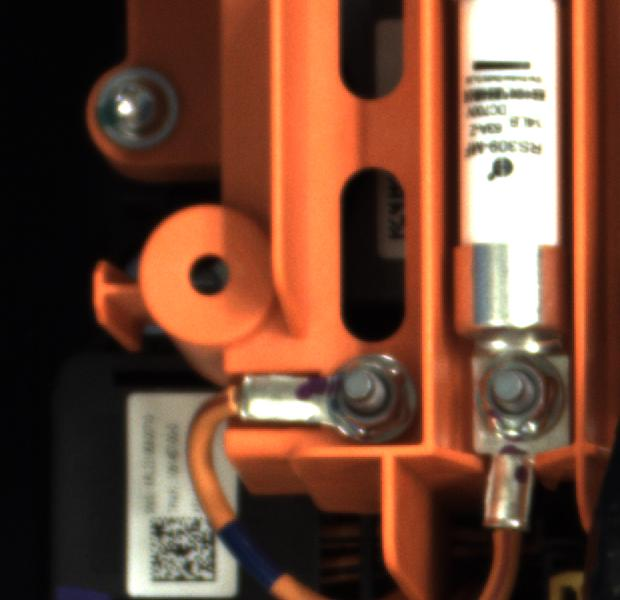screw_m: (85, 64, 199, 164)
screw_s: (468, 347, 570, 448), (319, 347, 411, 446)
